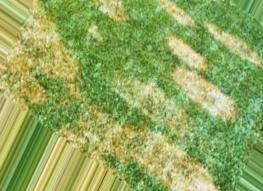patch: (146, 138, 190, 181), (35, 42, 81, 83), (186, 76, 228, 114), (169, 36, 205, 73), (212, 32, 253, 51), (169, 7, 183, 20)
